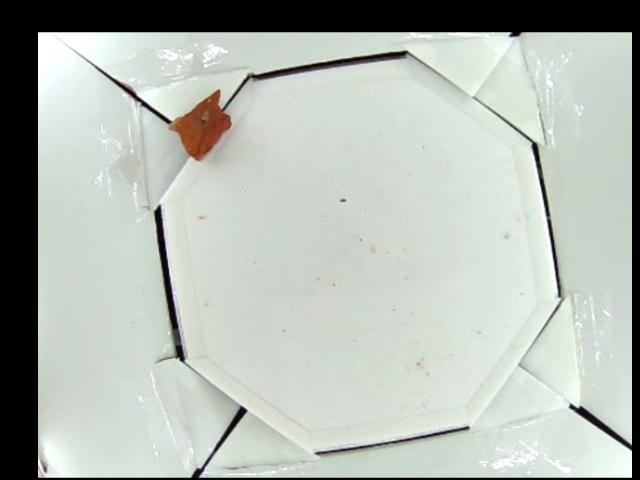Brisk: (167, 90, 231, 160)
